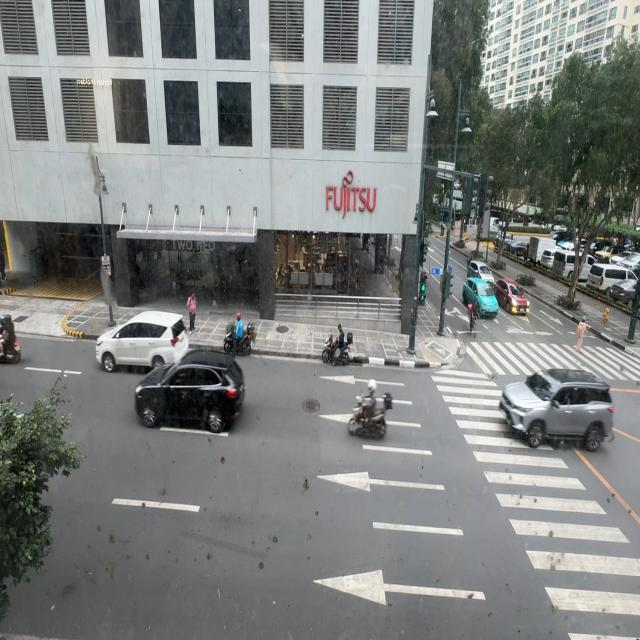crossing: (574, 317, 590, 359)
pedestrain: (187, 292, 196, 335)
